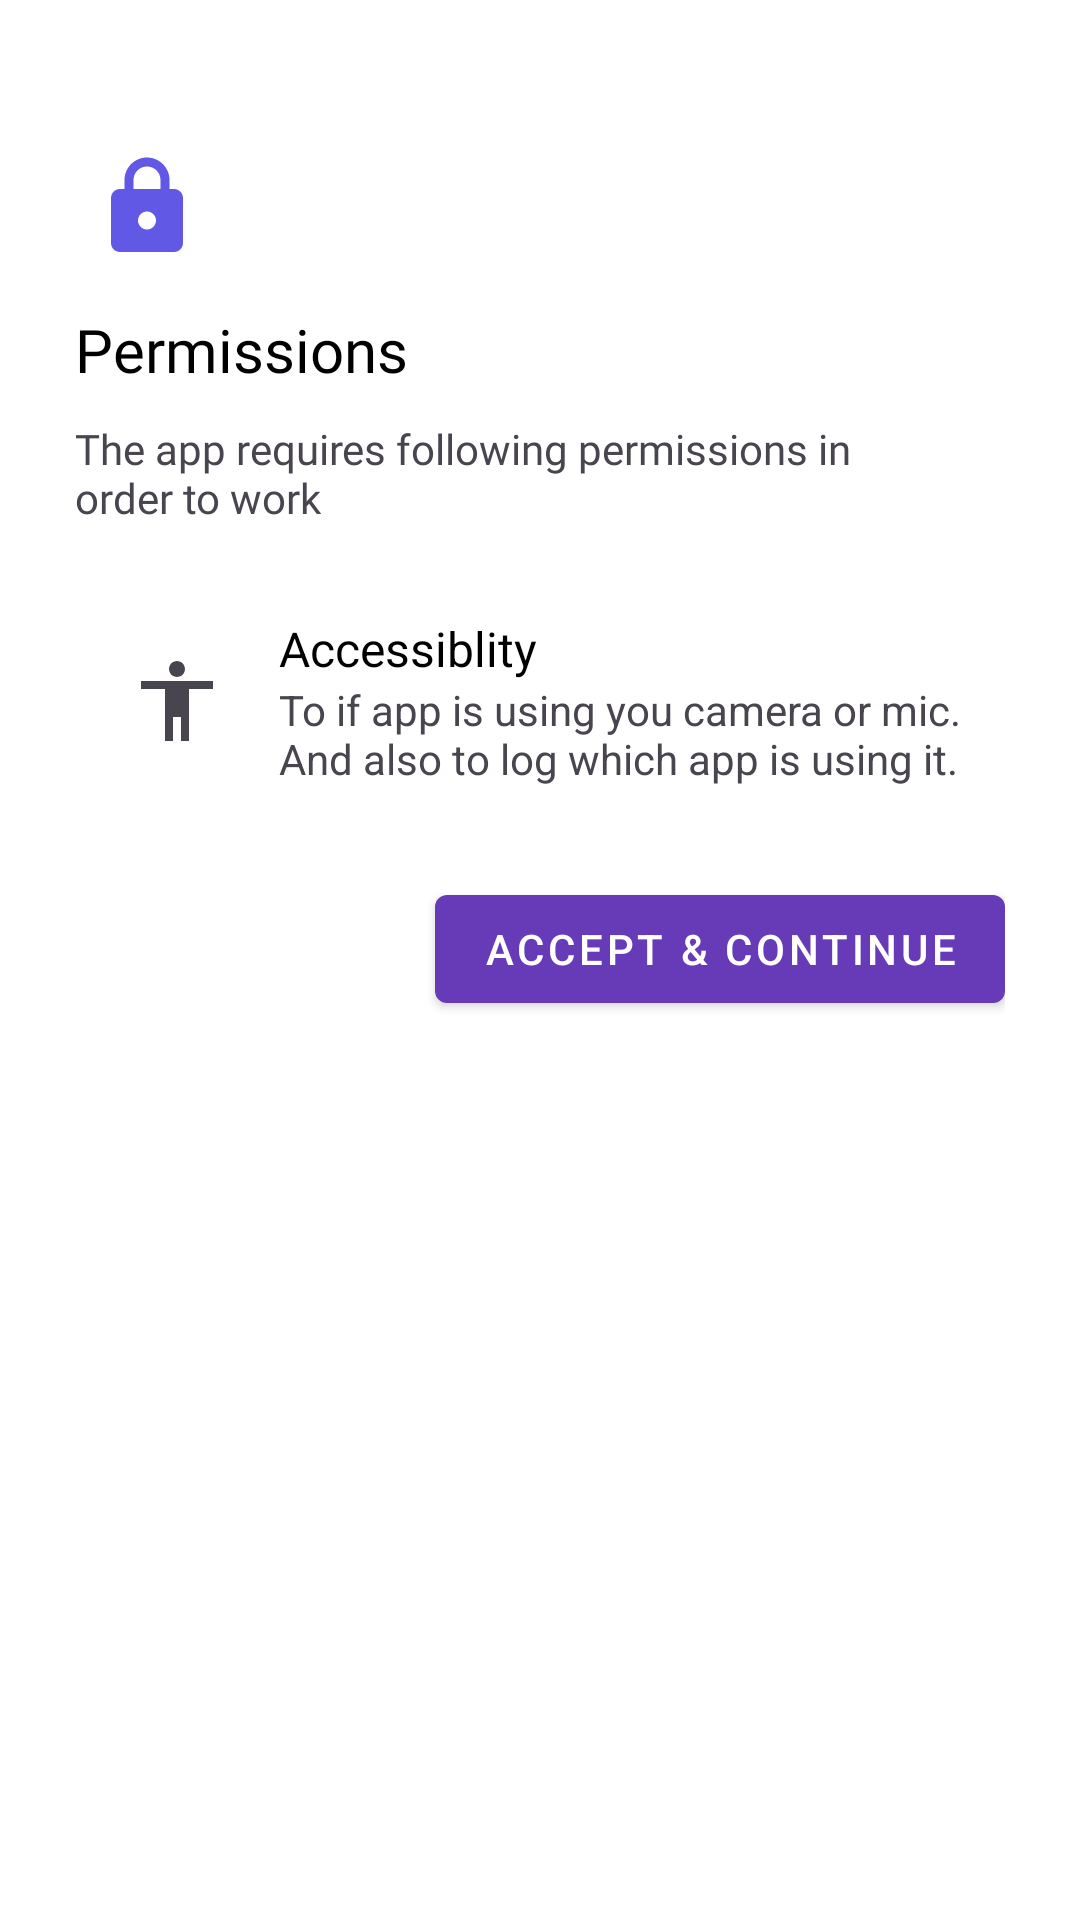

Where icons sit on this 1080 × 1920 app screen, as (x1,y1,x2,y2):
accessibility: (141,661,213,741)
lock: (111,157,183,252)
